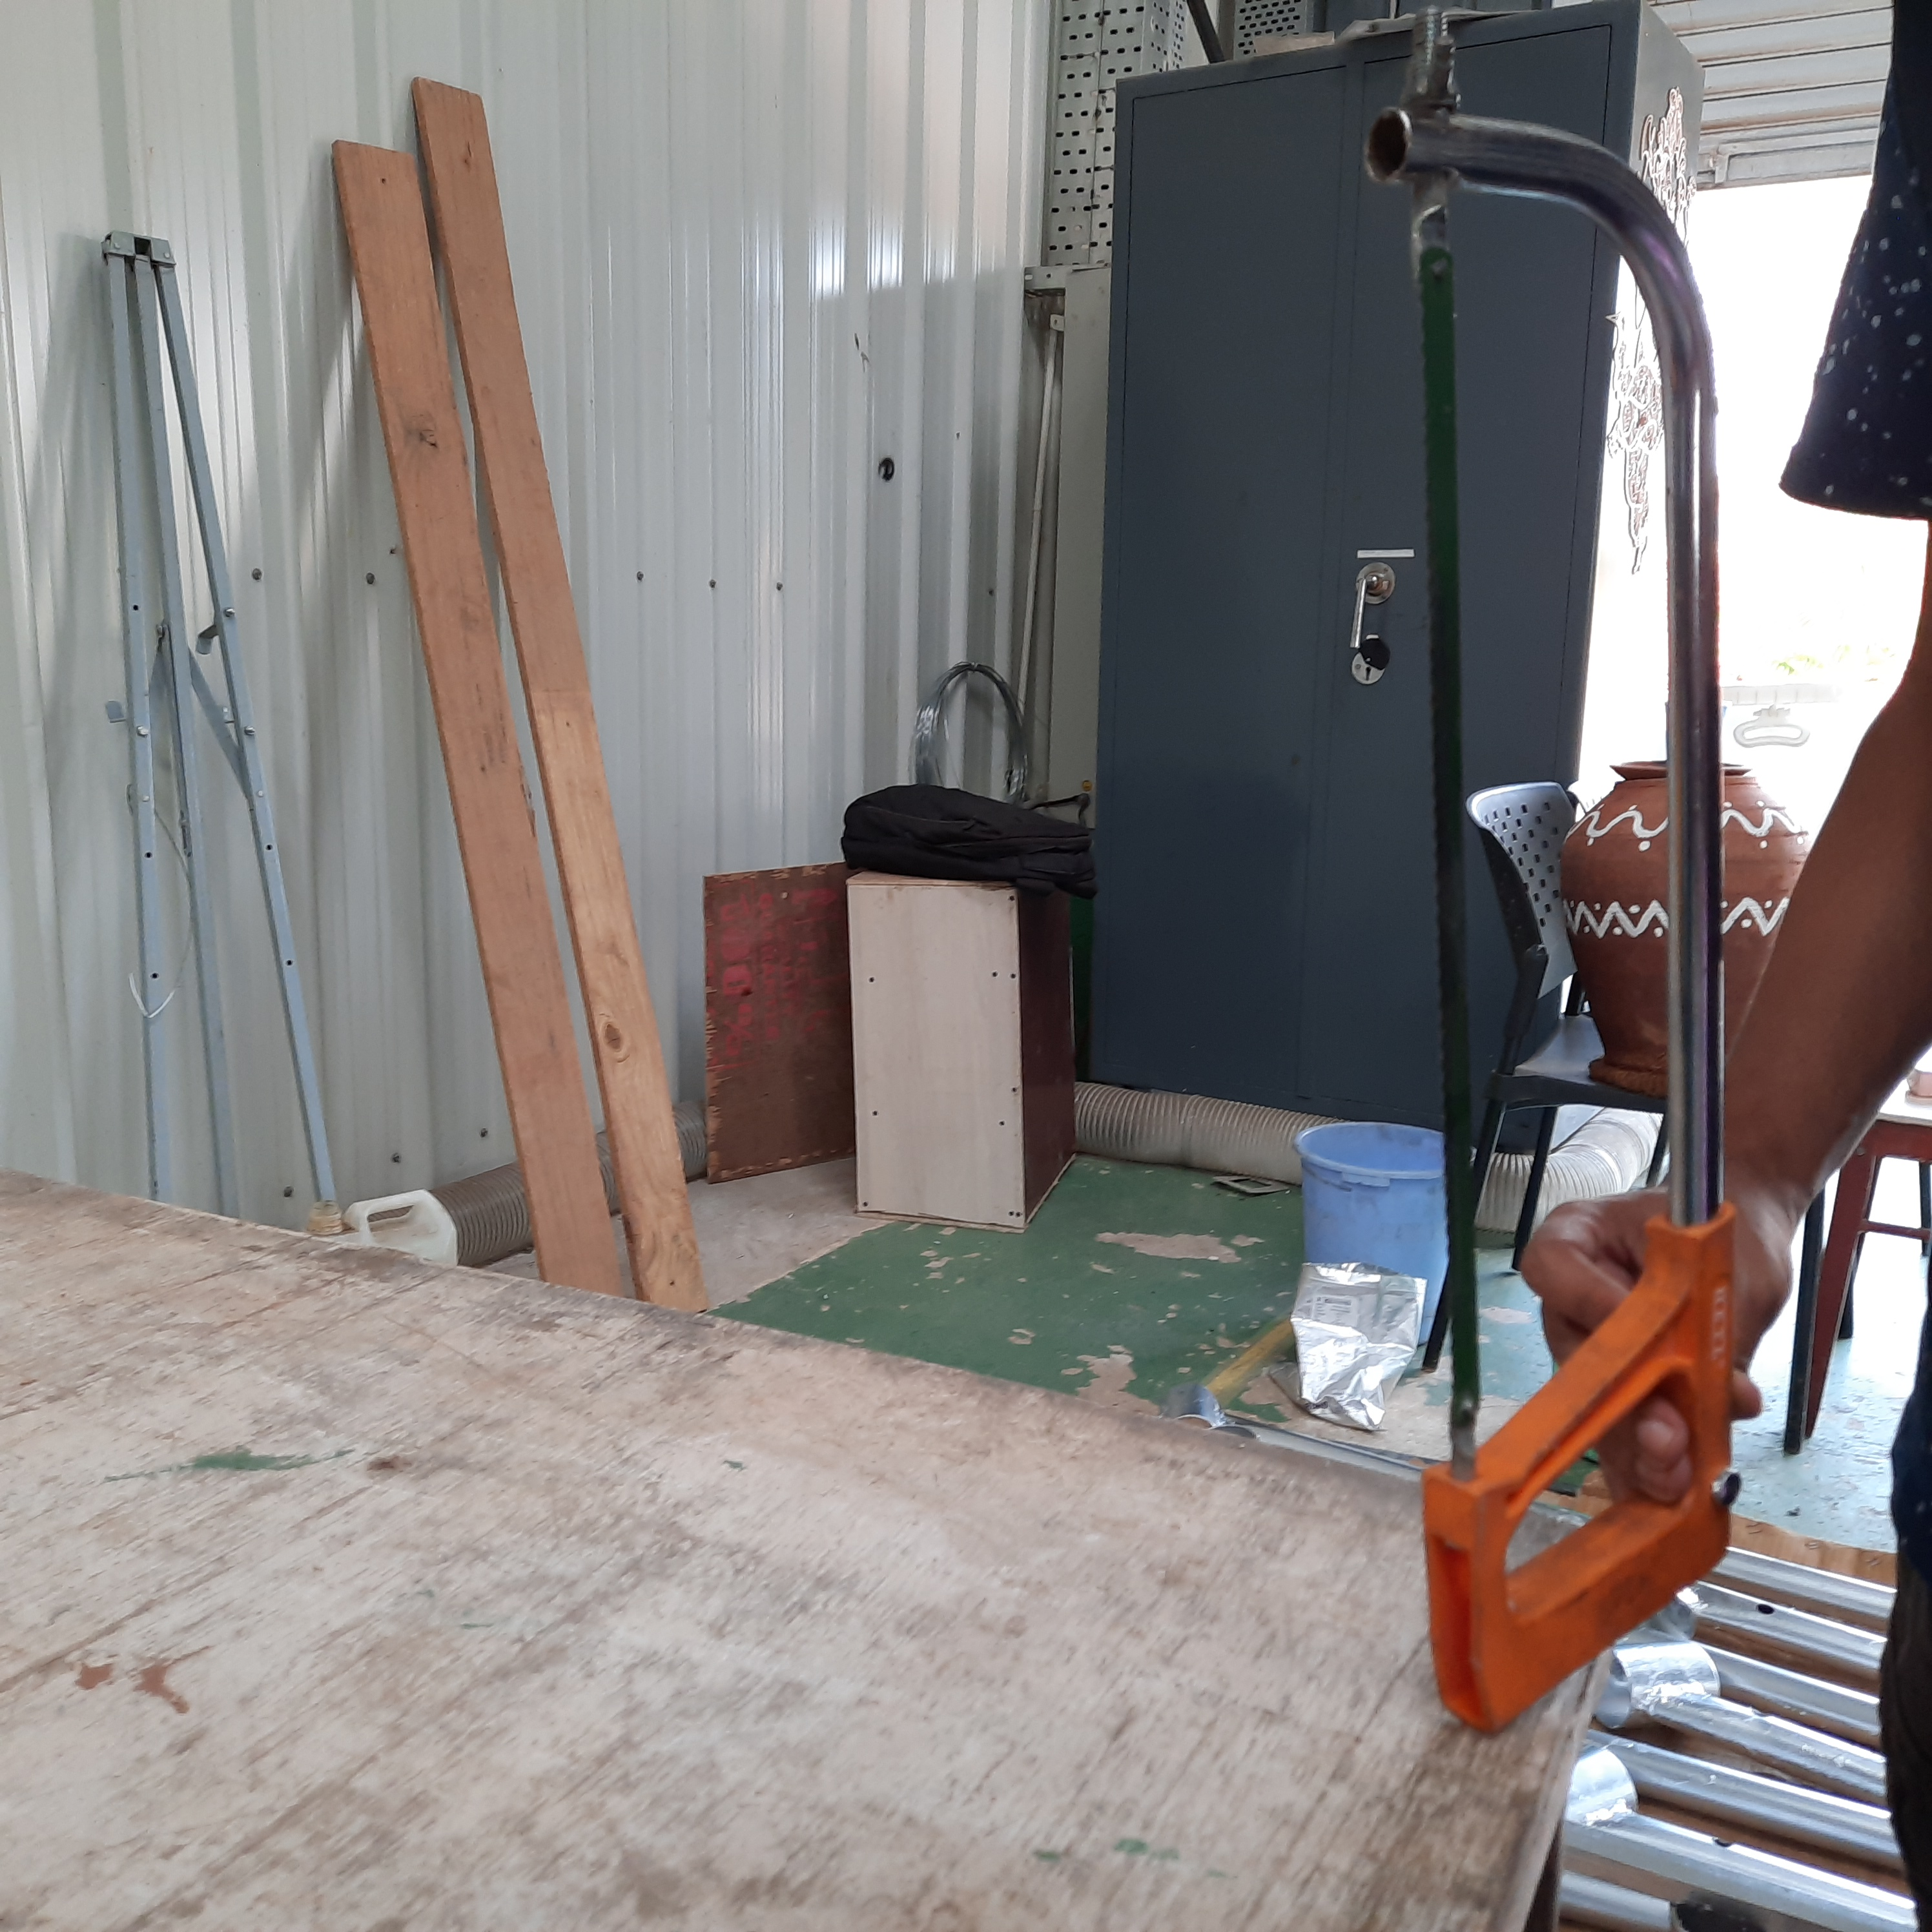Hexaframe: (1339, 34, 1775, 1746)
